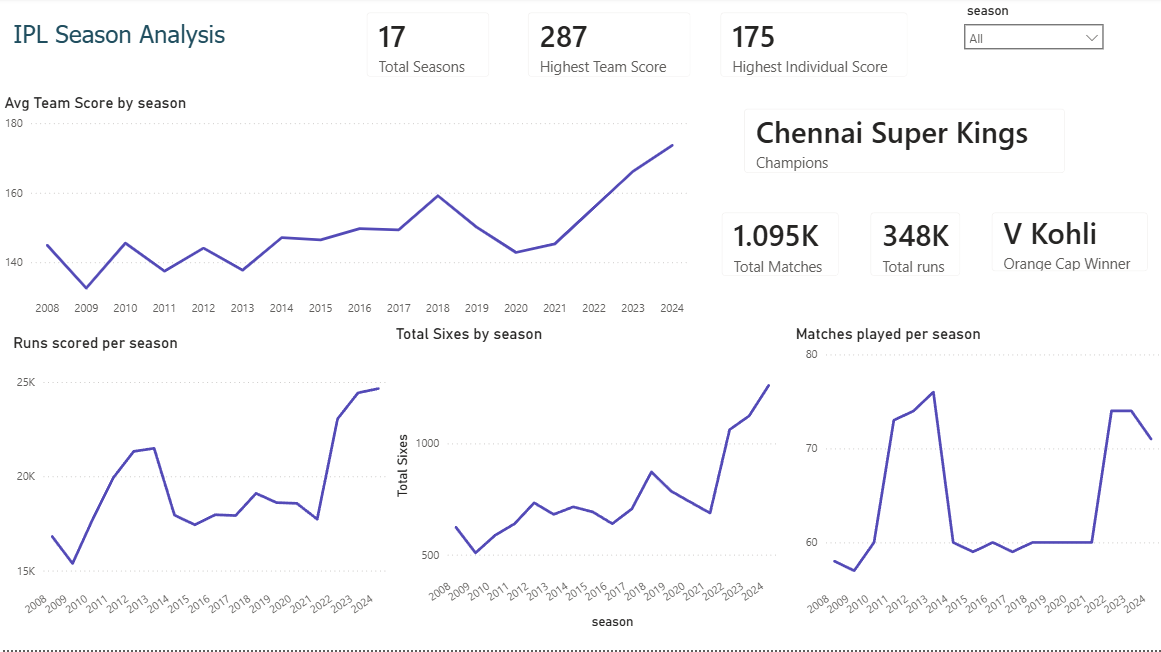

Layout of this report page (visuals, bound fields, positions):
{"tool":"powerbi","page":{"name":"Season Analysis","canvas":[1280,720],"ordinal":1},"visuals":[{"type":"lineChart","title":"Runs scored per season","fields":{"Category":["ipl matches.season"],"Y":["Sum(ipl deliveries.batsman_runs)"]},"box":[9.6,369.9,420.8,330],"z":0},{"type":"lineChart","title":"Matches played per season","fields":{"Category":["ipl matches.season"],"Y":["CountNonNull(ipl matches.id)"]},"box":[859.5,360.3,420.8,339.7],"z":1000},{"type":"lineChart","fields":{"Y":["ipl deliveries.Avg Team Score"],"Category":["ipl matches.season"]},"box":[0,86.6,764.6,273.7],"z":2000},{"type":"cardVisual","fields":{"Data":["ipl matches.Total Seasons"]},"box":[386.4,0,169.1,105.9],"z":3000},{"type":"cardVisual","fields":{"Data":["ipl deliveries.Highest Team Score"]},"box":[563.8,0,213.2,105.9],"z":4000},{"type":"clusteredBarChart","fields":{"Y":["ipl deliveries.Total Sixes"],"Category":["ipl matches.season"]},"box":[446.9,360.3,412.5,339.7],"z":5000},{"type":"cardVisual","fields":{"Data":["Min(ipl matches.winner)"]},"box":[801.7,105.9,387.8,105.9],"z":6000},{"type":"slicer","fields":{"Values":["Dim_Season.season"]},"box":[1050.6,1.4,173.3,85.3],"z":7000},{"type":"cardVisual","fields":{"Data":["CountNonNull(ipl matches.id)"]},"box":[777,220,163.6,104.5],"z":8000},{"type":"cardVisual","fields":{"Data":["ipl deliveries.Total runs"]},"box":[940.6,220,133.4,104.5],"z":9000},{"type":"cardVisual","fields":{"Data":["ipl matches.Orange Cap Winner"]},"box":[1074,220,206.3,99],"z":10000},{"type":"cardVisual","fields":{"Data":["ipl deliveries.Highest Individual Score"]},"box":[775.6,0,240.7,105.9],"z":11000},{"type":"textbox","box":[9.6,19.3,280.5,67.4],"z":12000}]}

Visuals, with their boxes in screenshot pixels (x1, y1, x2, y2), scaled from the page's 1280x720 canvas onto the 1161x652 screenshot:
"Runs scored per season" lineChart: (9,335,390,634)
"Matches played per season" lineChart: (780,326,1160,634)
lineChart - ipl deliveries.Avg Team Score x ipl matches.season: (0,78,694,326)
cardVisual - ipl matches.Total Seasons: (350,0,504,96)
cardVisual - ipl deliveries.Highest Team Score: (511,0,705,96)
clusteredBarChart - ipl deliveries.Total Sixes x ipl matches.season: (405,326,780,634)
cardVisual - Min(ipl matches.winner): (727,96,1079,192)
slicer - Dim_Season.season: (953,1,1110,79)
cardVisual - CountNonNull(ipl matches.id): (705,199,853,294)
cardVisual - ipl deliveries.Total runs: (853,199,974,294)
cardVisual - ipl matches.Orange Cap Winner: (974,199,1160,289)
cardVisual - ipl deliveries.Highest Individual Score: (703,0,922,96)
textbox: (9,17,263,79)
